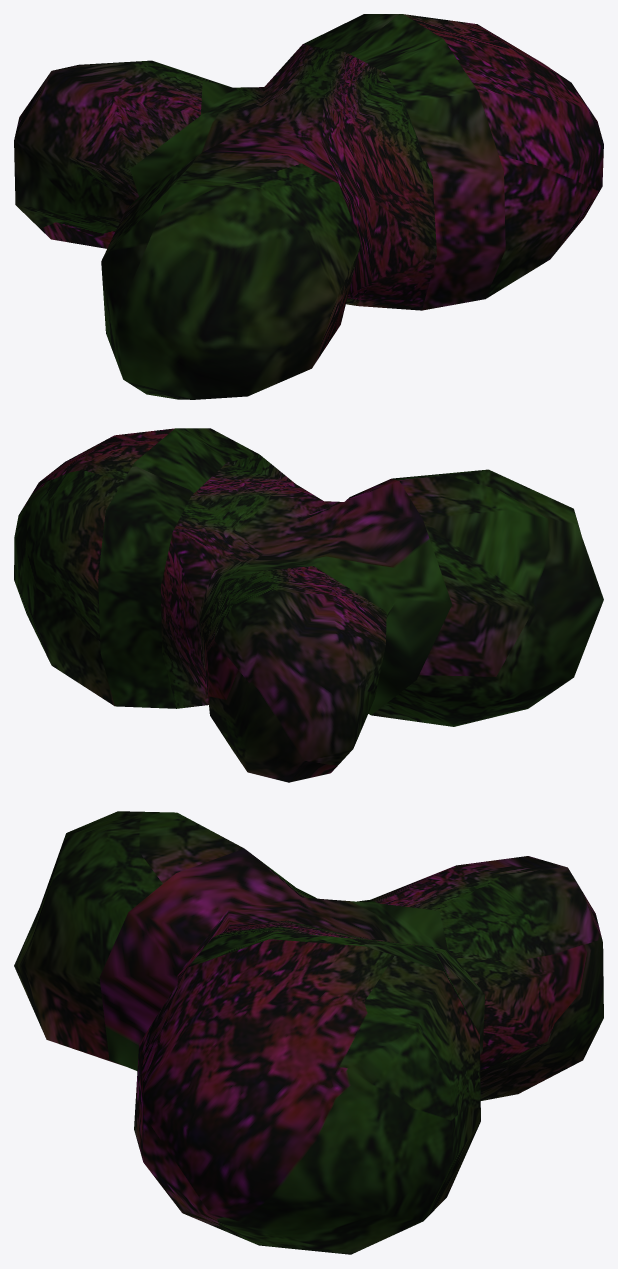
The model's file is Arbusto_Version_002_LOD_version_002.fbx.
3 renders of one model, top to bottom at view 1: azimuth 30°, elevation 25°; view 2: azimuth 150°, elevation 25°; view 3: azimuth 270°, elevation 25°, orthographic. The views are drawn at different scales.
Visible parts, largest first — view 1: Arbusto_LOD0; view 2: Arbusto_LOD0; view 3: Arbusto_LOD0.
Boxes of the visible parts, box(x1,y1,x2,y2) form: Arbusto_LOD0: box(14, 14, 603, 399); Arbusto_LOD0: box(14, 428, 603, 782); Arbusto_LOD0: box(14, 811, 603, 1254).
Size of what is drawn, in the model's own units: 769 by 360 by 644.
